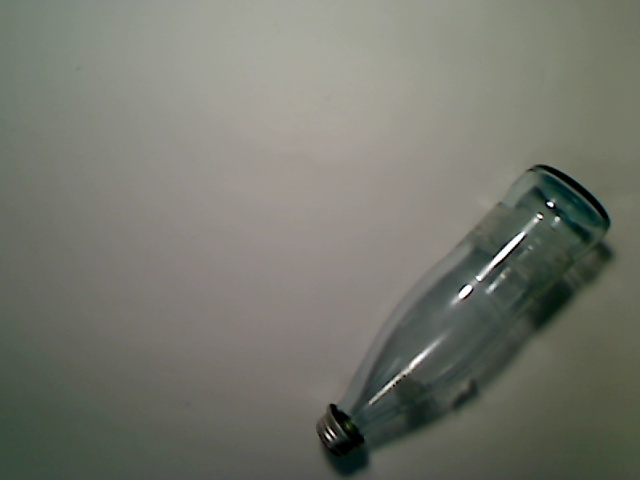bottle: (315, 164, 612, 456)
